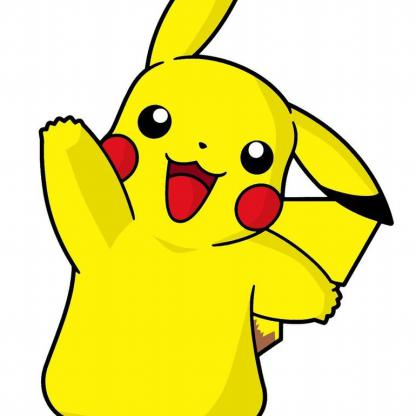Pikachu: (23, 3, 399, 416)
